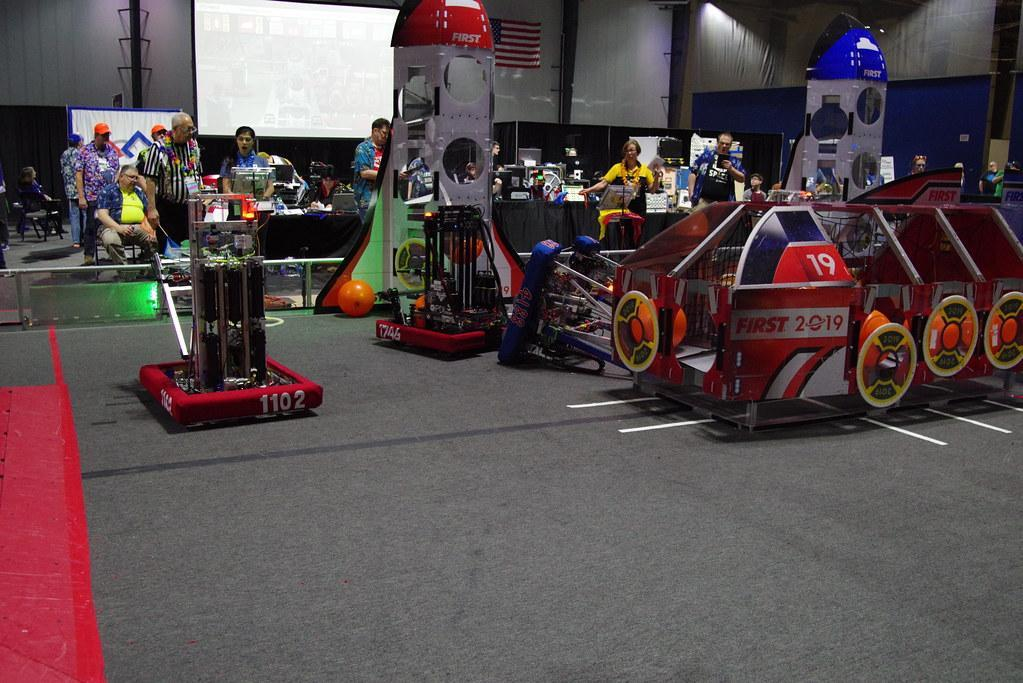robot: (132, 187, 329, 433), (492, 220, 677, 379), (367, 194, 510, 363)
